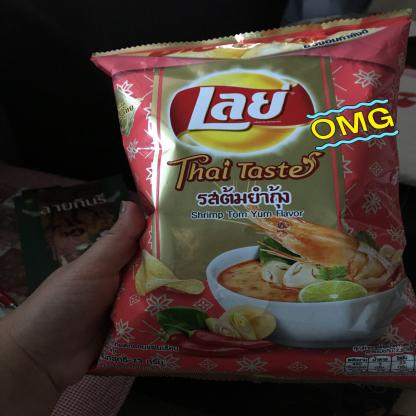potatochip: (75, 2, 416, 390)
